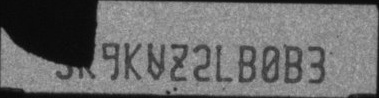0: (261, 45, 279, 83)
2: (193, 43, 211, 82)
3: (308, 45, 326, 84)
9: (101, 41, 119, 81)
B: (283, 44, 304, 84), (238, 43, 256, 82)
K: (77, 40, 97, 79), (124, 41, 142, 81)
L: (215, 43, 233, 82)
S: (54, 40, 72, 79)
V: (147, 42, 165, 81)
Z: (170, 41, 188, 80)
